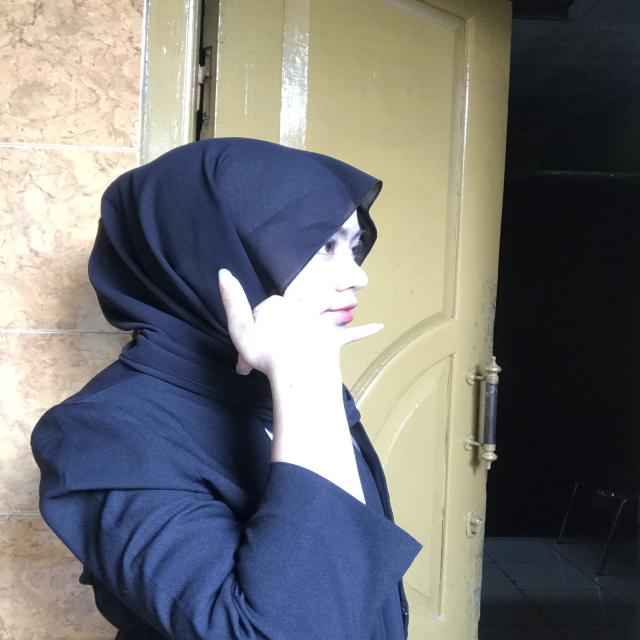telpon: (190, 264, 403, 382)
